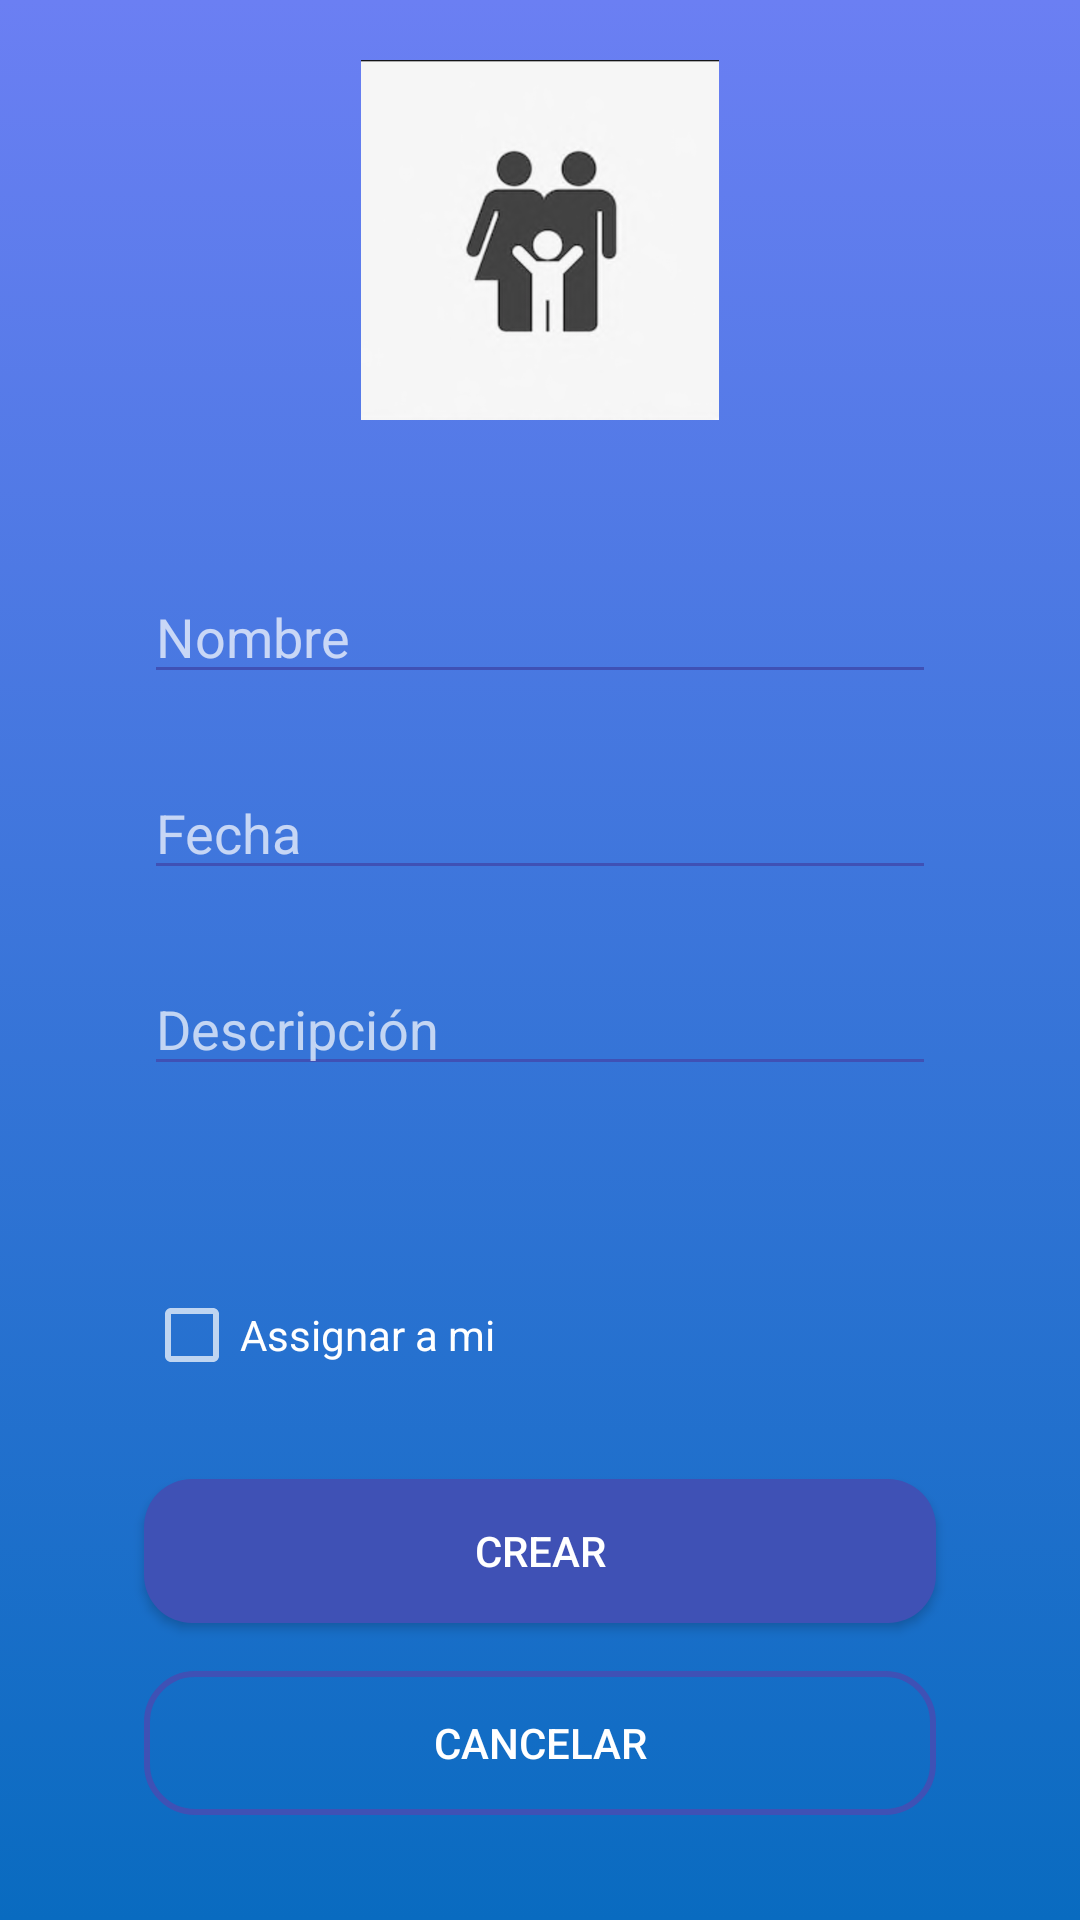

Point at icon controls on the screen. Image size 1080 x 1920, points as point (x, y).
family: point (540, 240)
